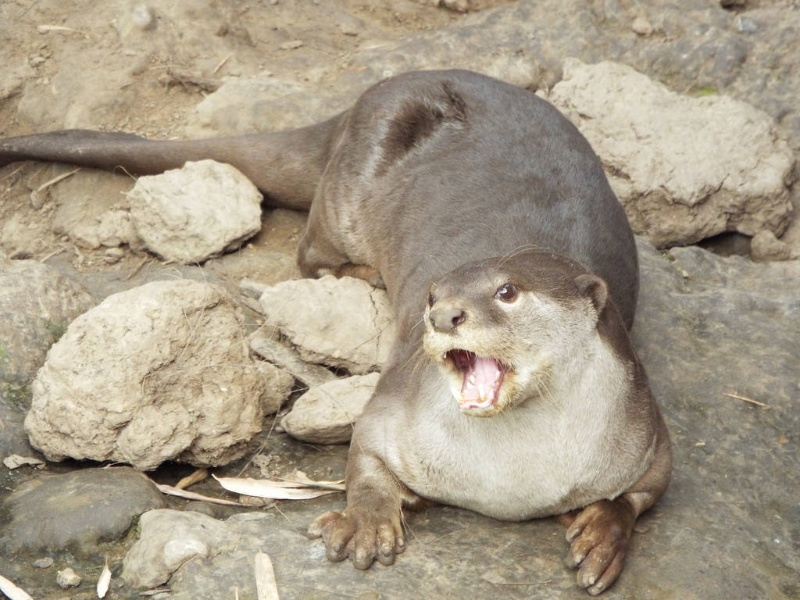minkish: (1, 50, 688, 579)
